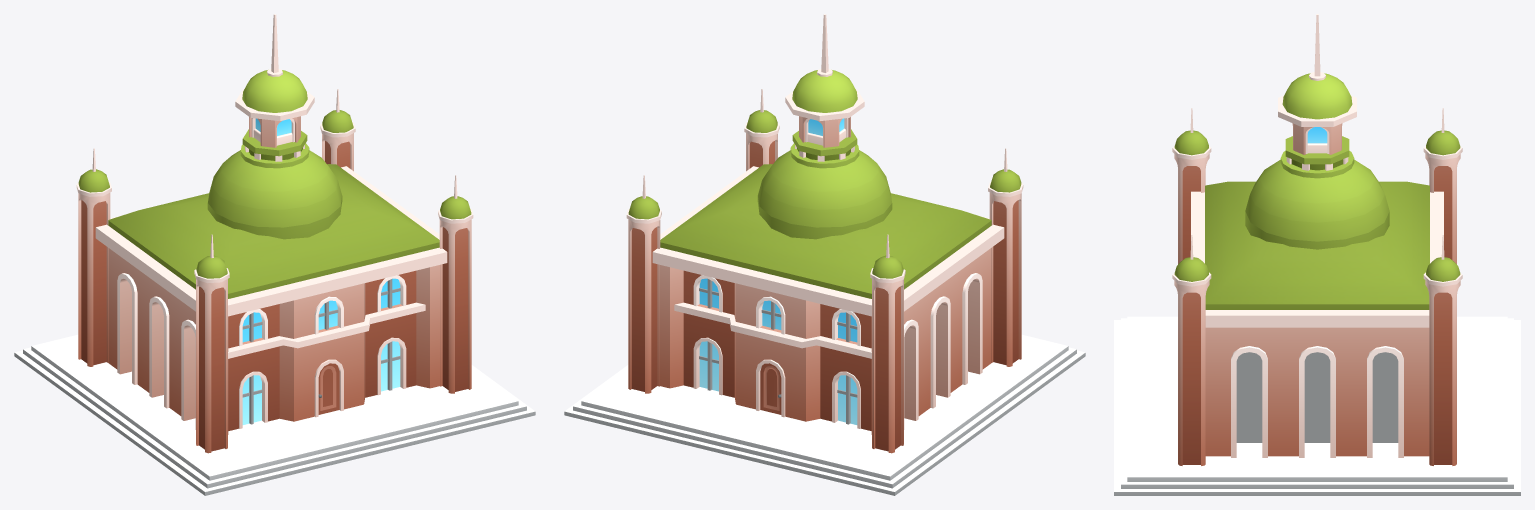
The model's file is Building_Temple_05.glb.
The picture shows the model from 3 angles, left to right: view 1: azimuth 30°, elevation 25°; view 2: azimuth 150°, elevation 25°; view 3: azimuth 270°, elevation 25°; orthographic projection. The views are drawn at different scales.
Parts seen in each view (by area): view 1: Building_Temple_05; view 2: Building_Temple_05; view 3: Building_Temple_05.
Boxes of the visible parts, bbox=[...] form: Building_Temple_05: bbox=[14, 14, 535, 495]; Building_Temple_05: bbox=[564, 14, 1085, 495]; Building_Temple_05: bbox=[1114, 14, 1520, 495].
Size of the model in its own units: 20.1 by 21.58 by 20.1.
1 material, 1 textured.
